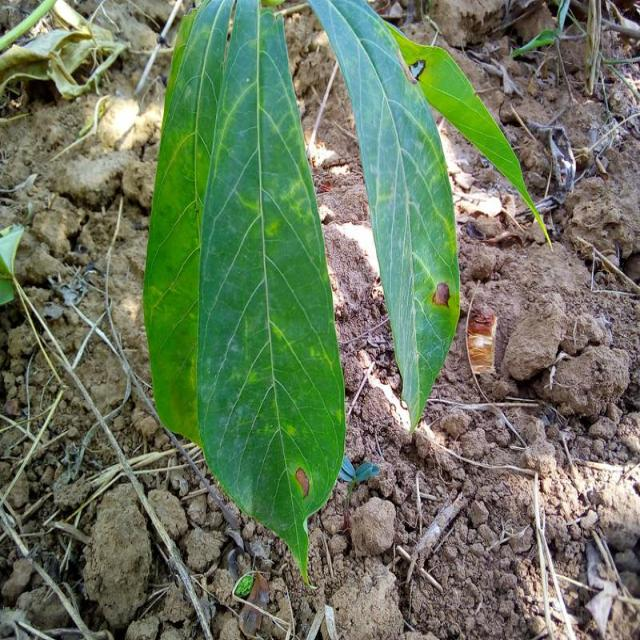cassava leaf: (142, 0, 347, 588), (304, 0, 462, 432)
